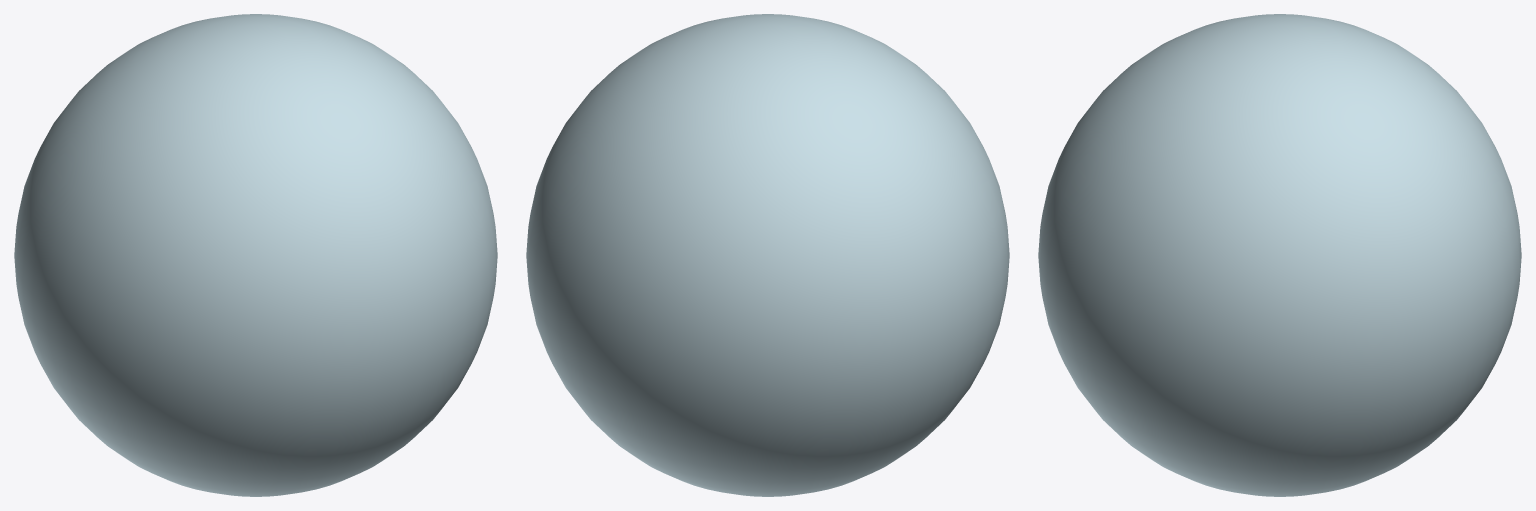
File: lake360.glb
3 views of the same model, side by side, from view 1: azimuth 30°, elevation 25°; view 2: azimuth 150°, elevation 25°; view 3: azimuth 270°, elevation 25° (orthographic).
Visible parts, largest first — view 1: Lake360_SkyDome; view 2: Lake360_SkyDome; view 3: Lake360_SkyDome.
Part boxes in pixels (x1,y1,x2,y2): Lake360_SkyDome: (14,14,497,496); Lake360_SkyDome: (526,14,1009,496); Lake360_SkyDome: (1038,14,1521,496).
Size of the model in its own units: 1920 by 1920 by 1920.
